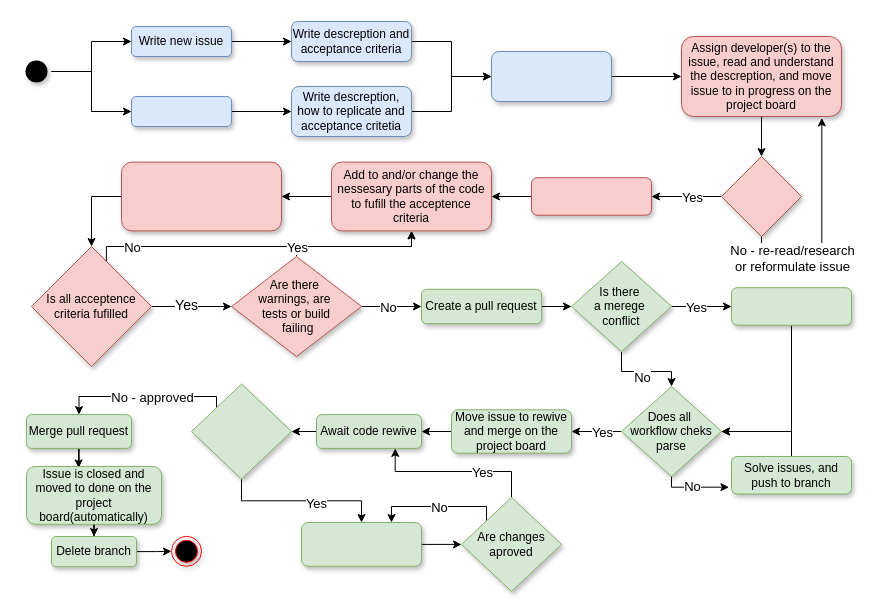
Some shapes in this 875 by 616 pixel diagram are drawn without their labels. The centre of each missing label's shape, as x and y in pixels:
"Are changes requested" belongs at [242,432].
"Continusley commit small cohesive parts to the working branch" belongs at [202,197].
"Create a branch, and link the issue to it" belongs at [592,197].
"Discusse and or implement requested changes" belongs at [362,545].
"Is task clear" belongs at [762,198].
"Issue is moved to todo on the project board(automaticly)" belongs at [552,77].
"Solve merge conflict" belongs at [792,307].
"Write new bug" belongs at [182,113].
